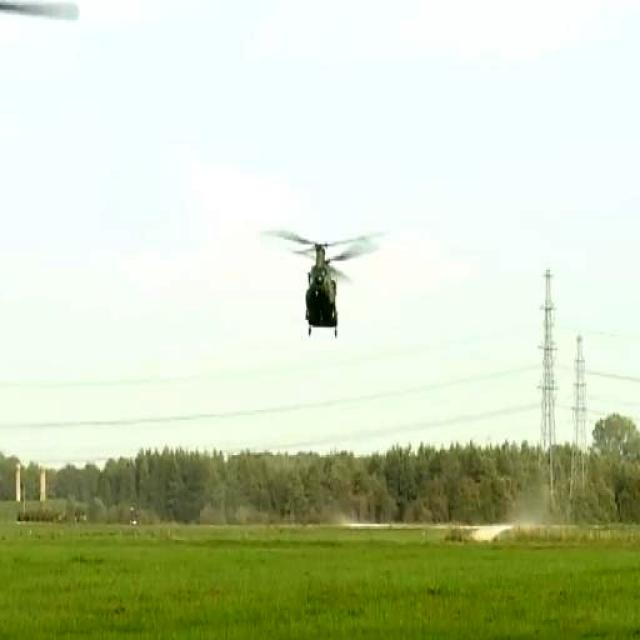drone: (251, 214, 390, 346)
